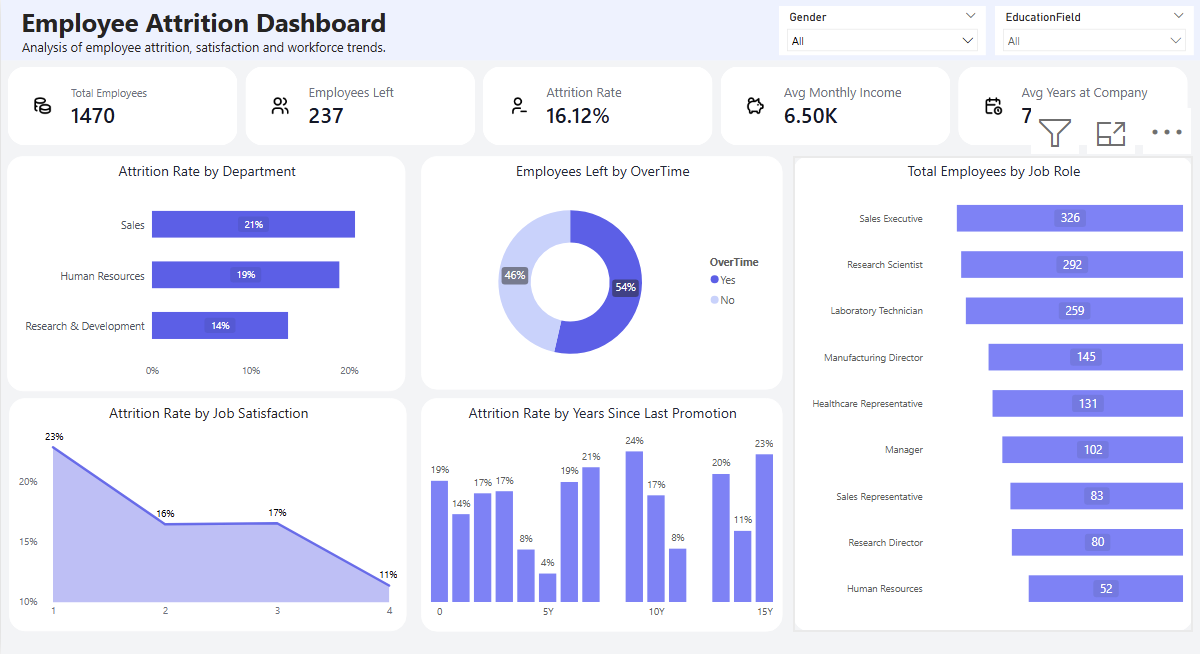

The page's visual inventory and layout, read from the dashboard file:
{"tool":"powerbi","page":{"name":"Strona 1","canvas":[1500,820],"ordinal":0},"visuals":[{"type":"shape","box":[0,0,1500,76],"z":0},{"type":"cardVisual","fields":{"Data":["hr_attrition_clean.Total Employees","hr_attrition_clean.Employees Left","hr_attrition_clean.Attrition Rate %","hr_attrition_clean.Average Monthly Income","hr_attrition_clean.Average Years at Company"]},"box":[8.3,83.3,1481.7,100],"z":1000},{"type":"textbox","box":[0,0,506.7,83.3],"z":2000},{"type":"textbox","box":[0,41.7,506.7,53.3],"z":3000},{"type":"barChart","fields":{"Category":["hr_attrition_clean.Department"],"Y":["hr_attrition_clean.Attrition Rate"]},"box":[8,196,498,294],"z":4000},{"type":"donutChart","fields":{"Category":["hr_attrition_clean.OverTime"],"Y":["hr_attrition_clean.Employees Left"]},"box":[524,196,452,292],"z":5000},{"type":"areaChart","title":"Attrition Rate by Job Satisfaction","fields":{"Category":["hr_attrition_clean.JobSatisfaction"],"Y":["hr_attrition_clean.Attrition Rate"]},"box":[10,498.6,497.1,291.4],"z":6000},{"type":"slicer","fields":{"Values":["hr_attrition_clean.Gender"]},"box":[971.7,6.7,258.3,61.7],"z":7000},{"type":"slicer","fields":{"Values":["hr_attrition_clean.EducationField"]},"box":[1241.7,6.7,248.3,61.7],"z":8000},{"type":"columnChart","title":"Attrition Rate by Years Since Last Promotion","fields":{"Y":["hr_attrition_clean.Attrition Rate"],"Category":["hr_attrition_clean.YearsSinceLastPromotion"]},"box":[524,498,452,292],"z":9000},{"type":"barChart","title":"Total Employees by Job Role","fields":{"Y":["hr_attrition_clean.Total Employees"],"Category":["hr_attrition_clean.JobRole"]},"box":[990,196,500,594],"z":10000}]}

Visuals, with their boxes in screenshot pixels (x1, y1, x2, y2), scaled from the page's 1500x820 canvas onto the 1200x654 screenshot:
shape: bbox(0, 0, 1199, 61)
cardVisual - hr_attrition_clean.Total Employees x hr_attrition_clean.Employees Left: bbox(7, 66, 1192, 146)
textbox: bbox(0, 0, 405, 66)
textbox: bbox(0, 33, 405, 76)
barChart - hr_attrition_clean.Department x hr_attrition_clean.Attrition Rate: bbox(6, 156, 405, 391)
donutChart - hr_attrition_clean.OverTime x hr_attrition_clean.Employees Left: bbox(419, 156, 781, 389)
"Attrition Rate by Job Satisfaction" areaChart: bbox(8, 398, 406, 630)
slicer - hr_attrition_clean.Gender: bbox(777, 5, 984, 55)
slicer - hr_attrition_clean.EducationField: bbox(993, 5, 1192, 55)
"Attrition Rate by Years Since Last Promotion" columnChart: bbox(419, 397, 781, 630)
"Total Employees by Job Role" barChart: bbox(792, 156, 1192, 630)
